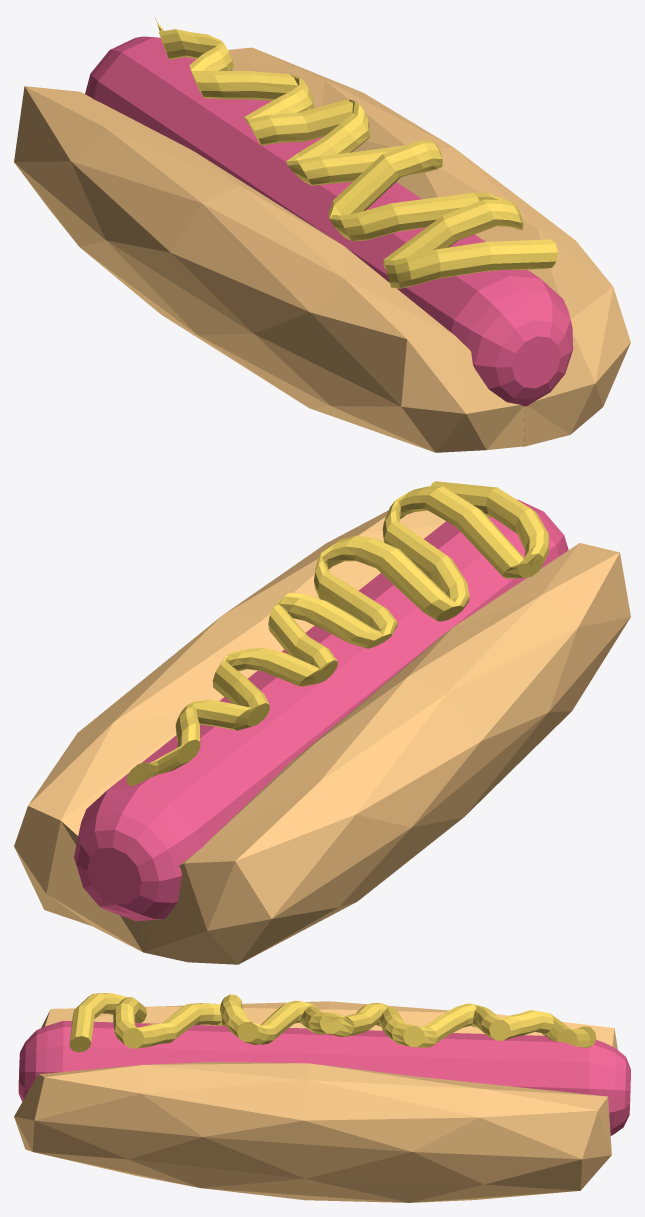
The model's file is HotDog.fbx.
3 views of the same model, one above another, from view 1: azimuth 30°, elevation 25°; view 2: azimuth 150°, elevation 25°; view 3: azimuth 270°, elevation 25° (orthographic). The views are drawn at different scales.
Parts seen in each view (by area): view 1: Bread, Sausage, Mustard; view 2: Bread, Sausage, Mustard; view 3: Bread, Sausage, Mustard.
Boxes of the visible parts, x1,y1,x2,y2 form: Bread: (14, 47, 630, 452); Sausage: (85, 36, 573, 406); Mustard: (154, 16, 557, 288); Bread: (14, 510, 630, 964); Sausage: (74, 499, 568, 921); Mustard: (126, 481, 549, 786); Bread: (14, 1001, 617, 1202); Sausage: (18, 1020, 630, 1135); Mustard: (69, 993, 596, 1052).
Size of the model in its own units: 49.61 by 38.4 by 116.
